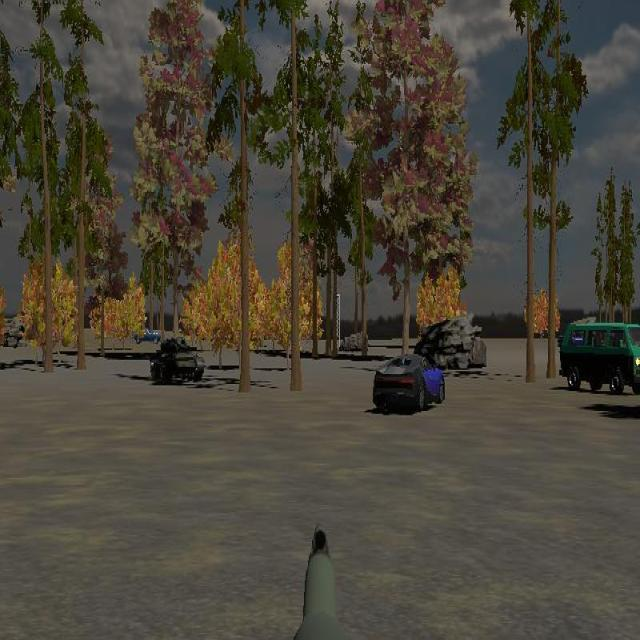Tank: (150, 336, 205, 386)
car: (559, 321, 640, 394), (372, 352, 445, 415)
